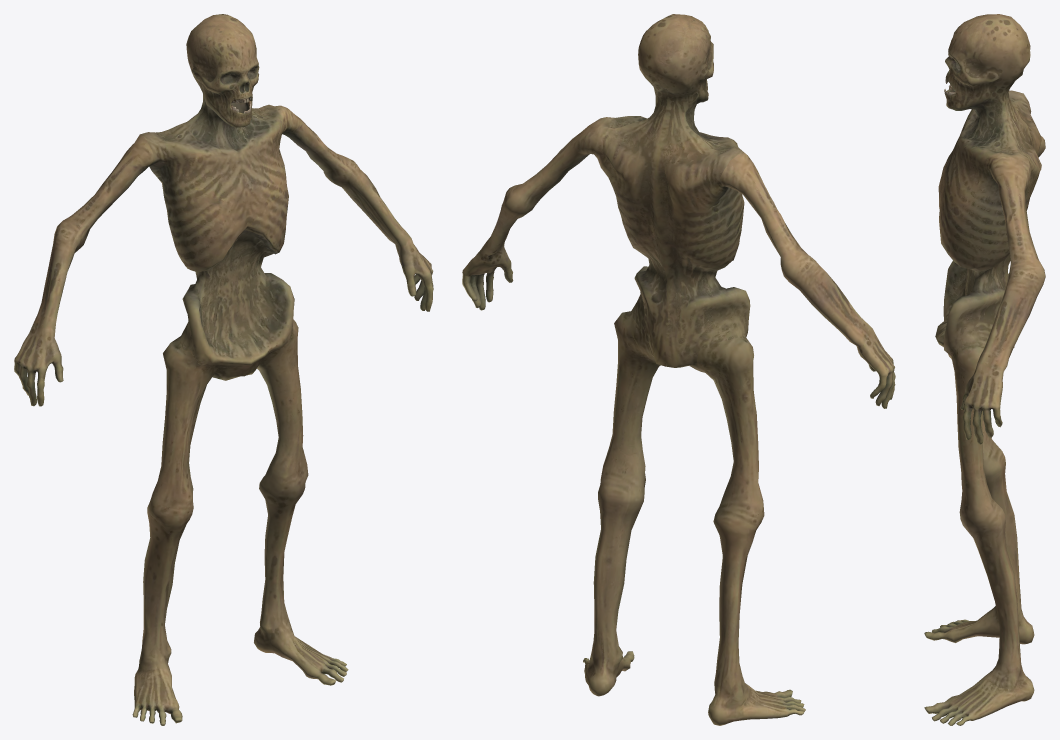
File: sketchfab-zombie-corpse-greenall.glb
The picture shows the model from 3 angles, left to right: view 1: azimuth 30°, elevation 25°; view 2: azimuth 150°, elevation 25°; view 3: azimuth 270°, elevation 25°; orthographic projection. The views are drawn at different scales.
Parts seen in each view (by area): view 1: Default_lambert1_0; view 2: Default_lambert1_0; view 3: Default_lambert1_0.
Boxes of the visible parts, x1,y1,x2,y2 form: Default_lambert1_0: [14, 14, 433, 725]; Default_lambert1_0: [462, 14, 895, 725]; Default_lambert1_0: [924, 14, 1045, 725].
Bounding box in the file's own units: 0.0761 × 0.1173 × 0.0195.
1 material, 1 textured.
